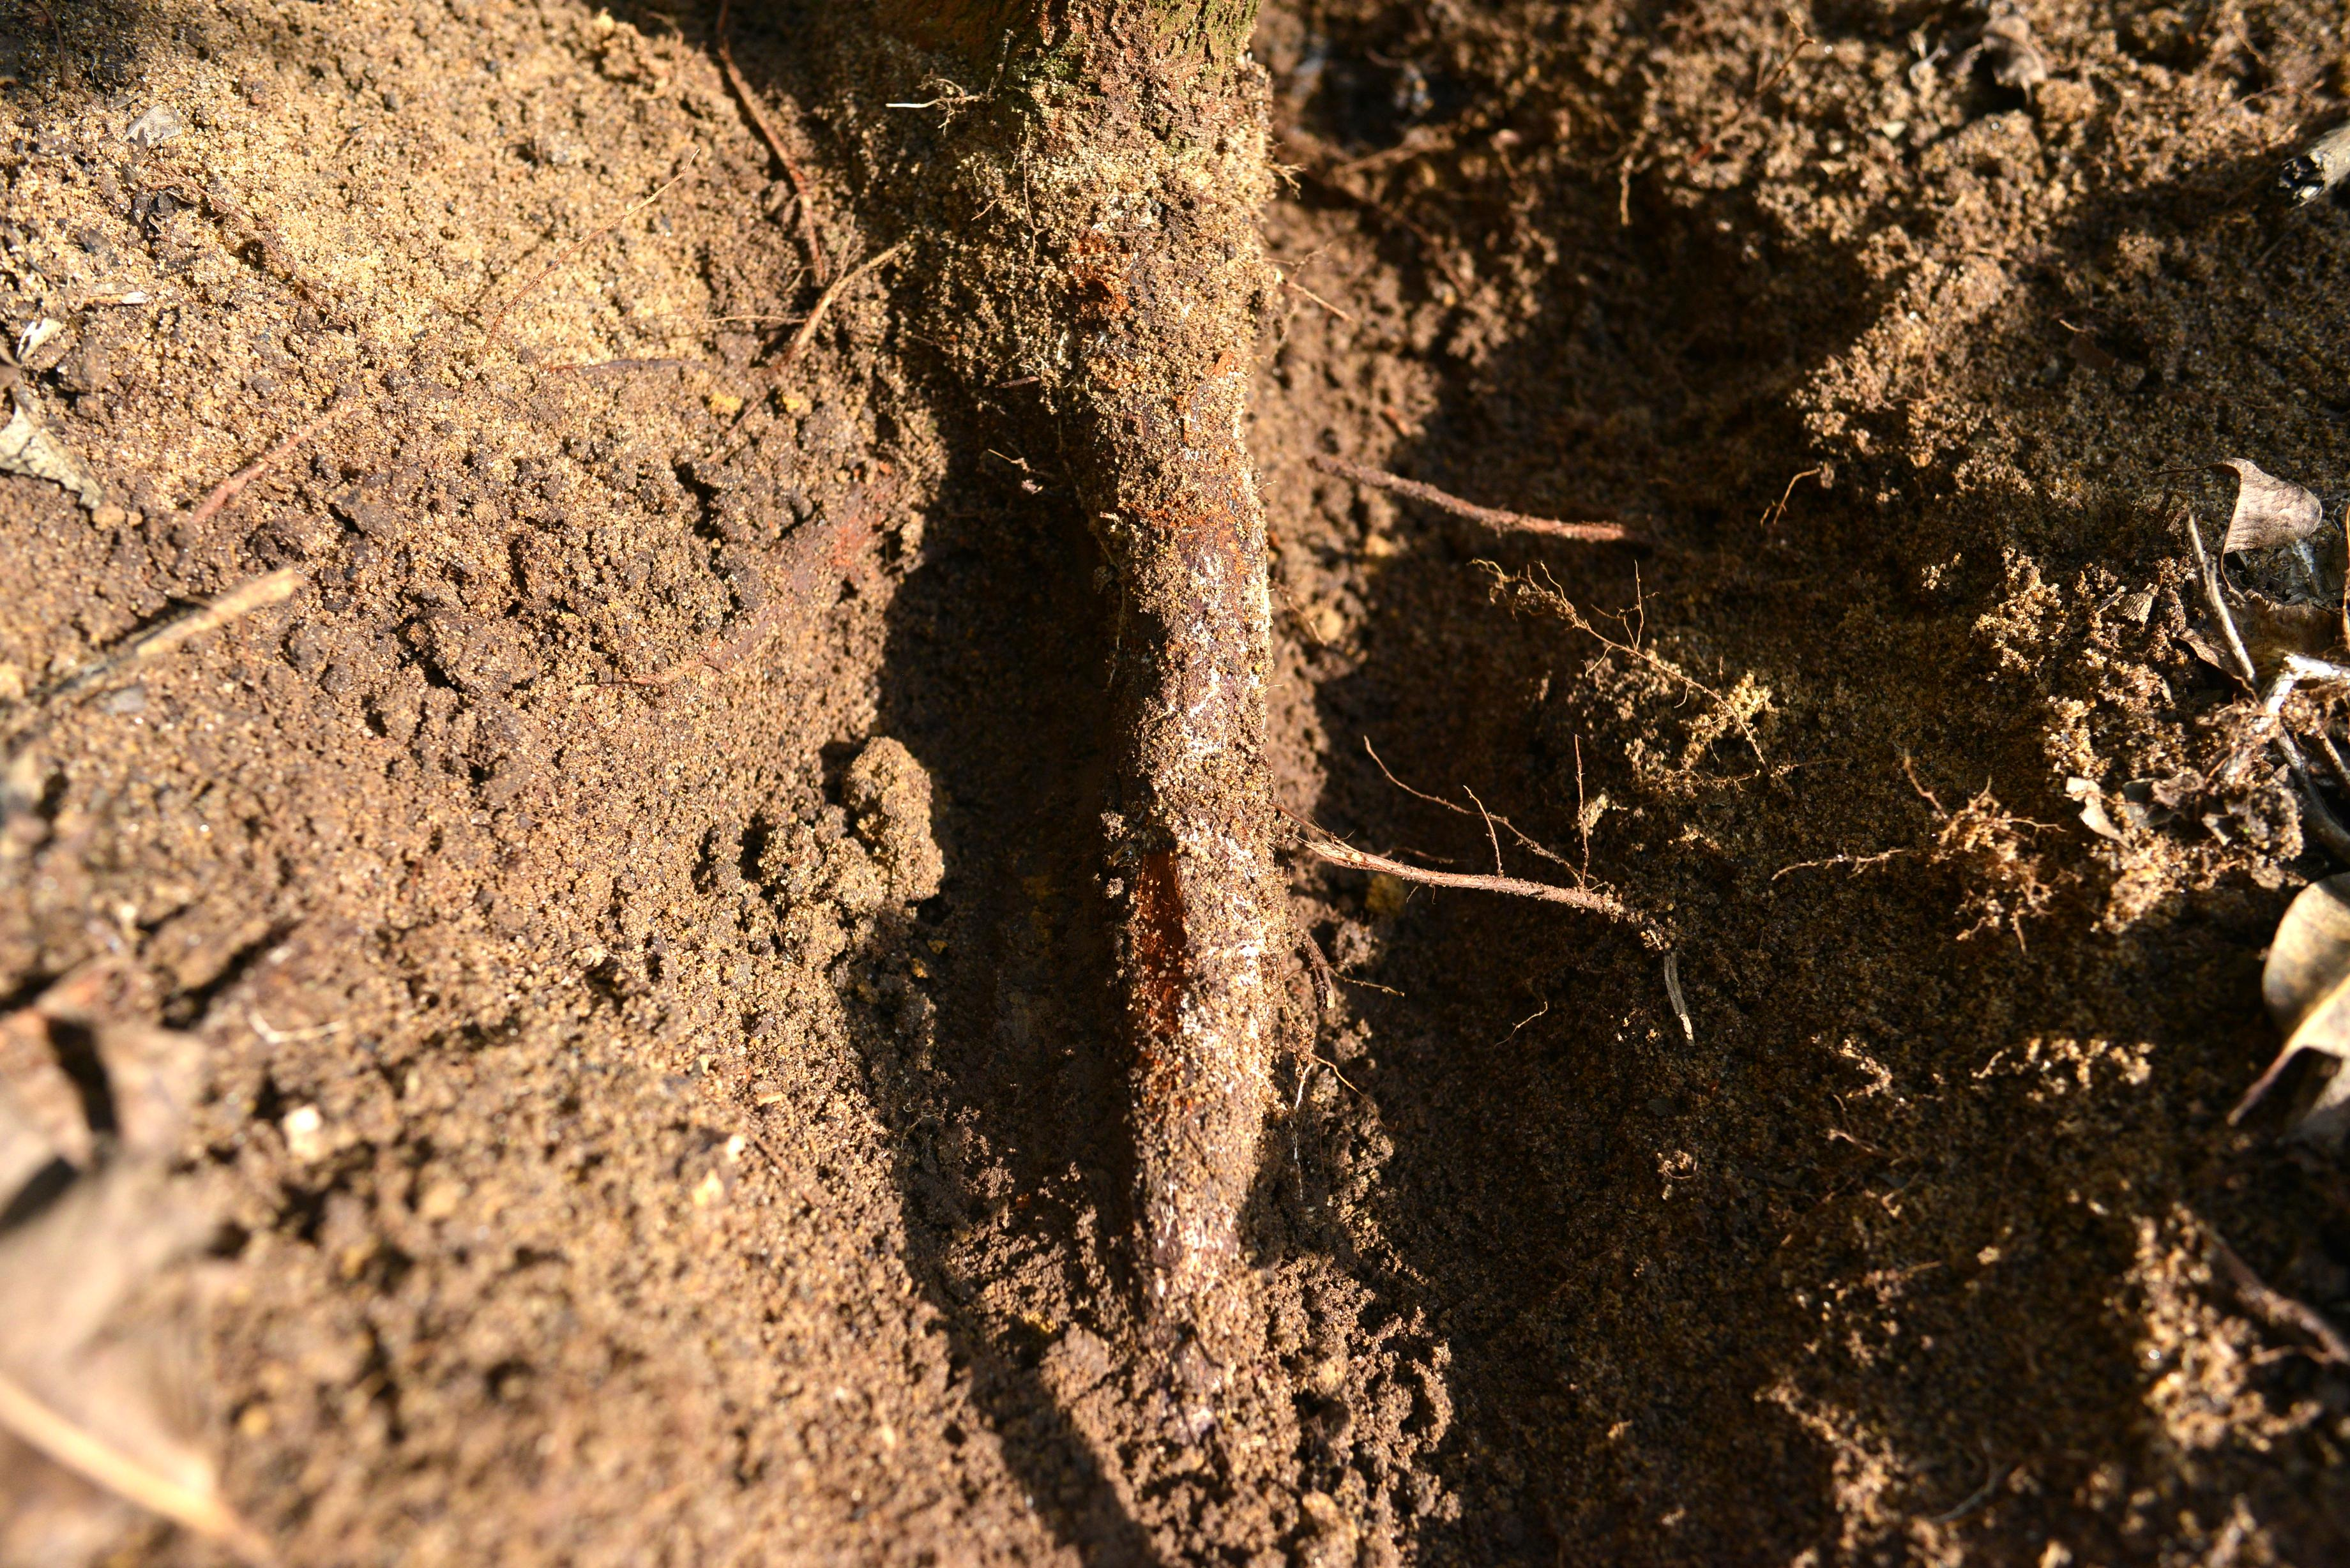Ganoderma - Mycelium: (1130, 597, 1281, 1342), (1064, 107, 1284, 569)
